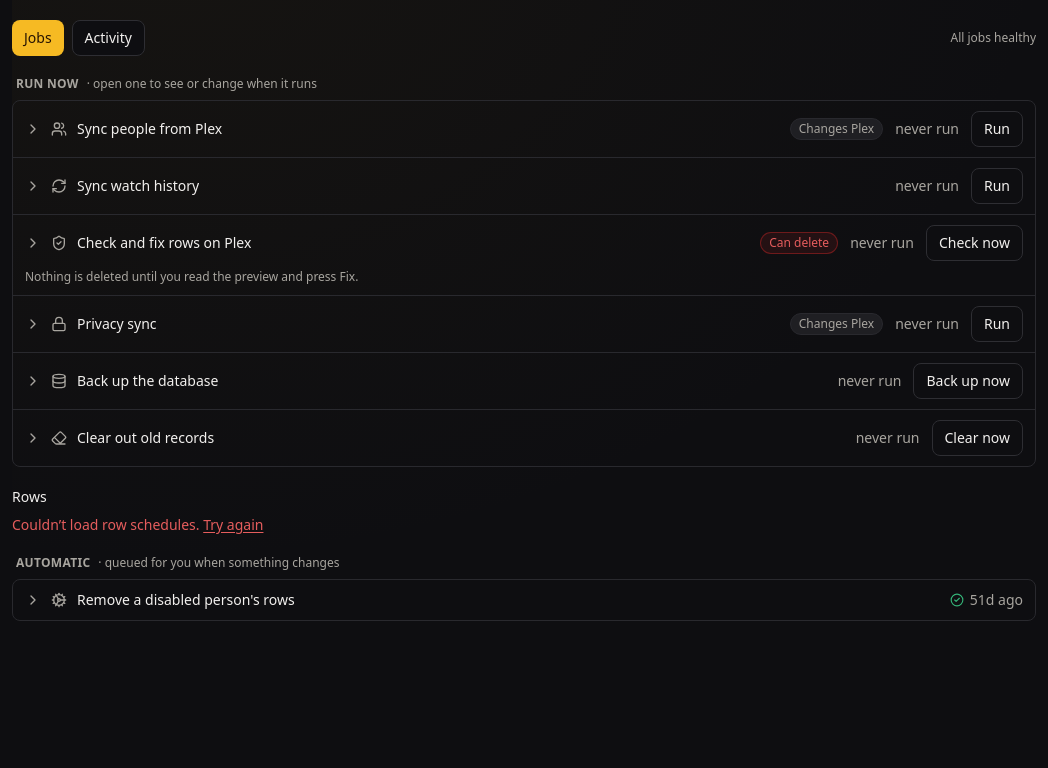
it: JobsPage — sync check › shows an automatic job with no run button, and says what queues it
Check: the heading "Automatic" is shown, box [16, 555, 90, 571]
Click the button "Remove a disabled person's rows".
click(186, 600)  # box [25, 590, 938, 610]
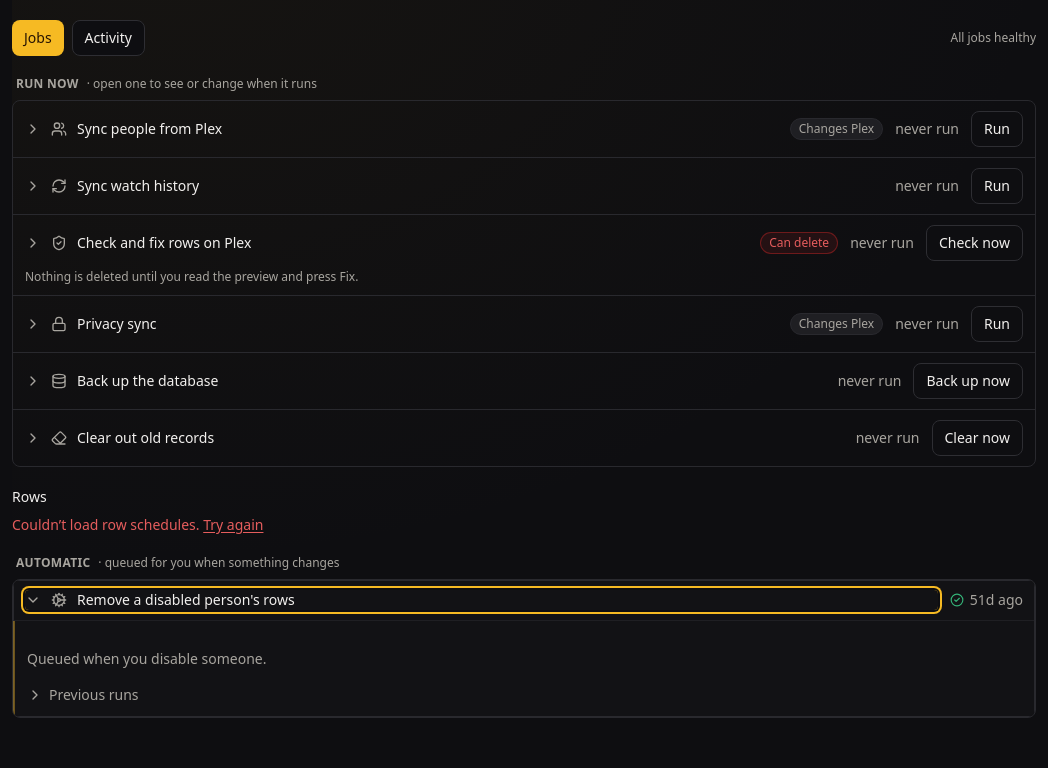
Check: the element with test id "job-user.cleanup" shows "Queued when you disable someone", box [27, 649, 266, 668]
